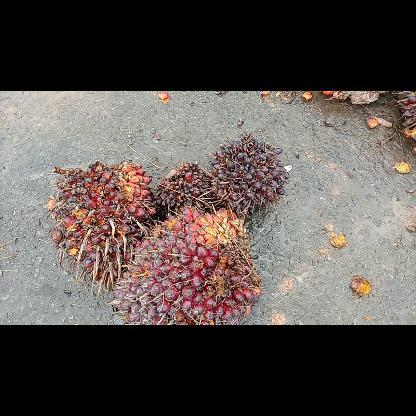TBS abnormal: (203, 134, 291, 218), (152, 160, 212, 219)
TBS masak: (106, 202, 264, 324), (44, 157, 162, 300)
